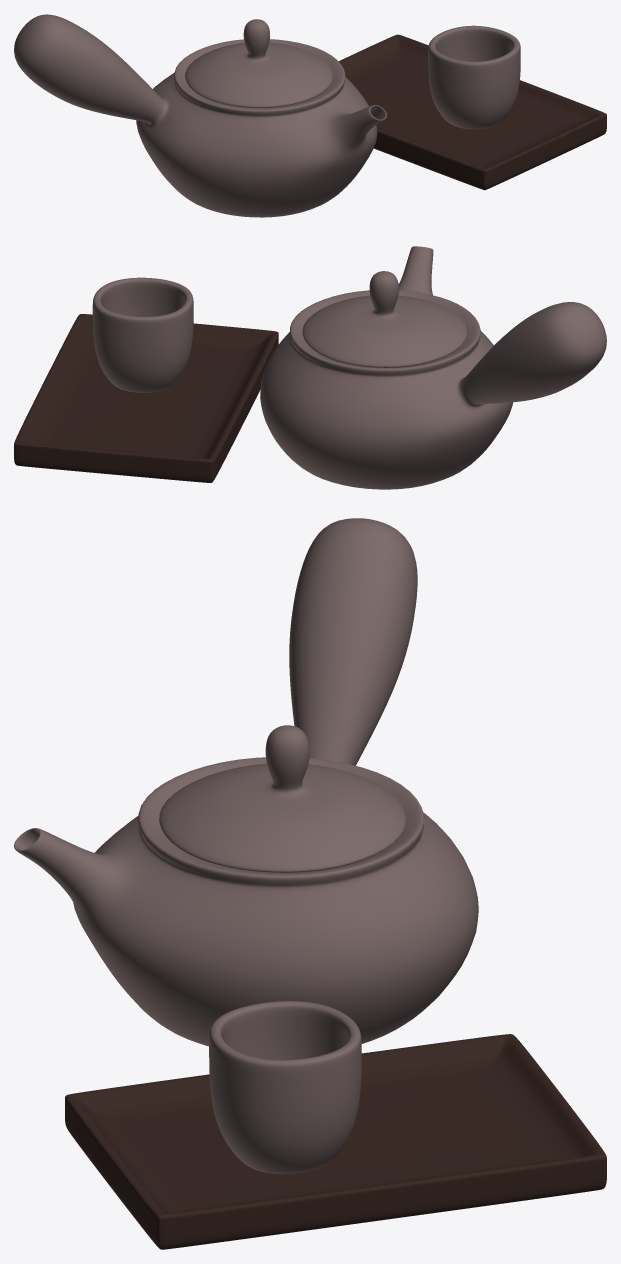
File: teapot.glb
The picture shows the model from 3 angles, top to bottom: view 1: azimuth 30°, elevation 25°; view 2: azimuth 150°, elevation 25°; view 3: azimuth 270°, elevation 25°; orthographic projection. The views are drawn at different scales.
Visible parts, largest first — view 1: teapot, planck, cup2; view 2: teapot, planck, cup2; view 3: teapot, planck, cup2.
Part boxes in pixels (x1=…): teapot: x1=14, y1=14, x2=386, y2=217; planck: x1=339, y1=34, x2=606, y2=190; cup2: x1=428, y1=25, x2=520, y2=129; teapot: x1=260, y1=246, x2=606, y2=489; planck: x1=14, y1=314, x2=278, y2=482; cup2: x1=92, y1=277, x2=193, y2=392; teapot: x1=14, y1=518, x2=478, y2=1046; planck: x1=65, y1=1034, x2=606, y2=1249; cup2: x1=209, y1=1001, x2=361, y2=1173.
Size of the model in its own units: 7.83 by 2.79 by 4.55.
